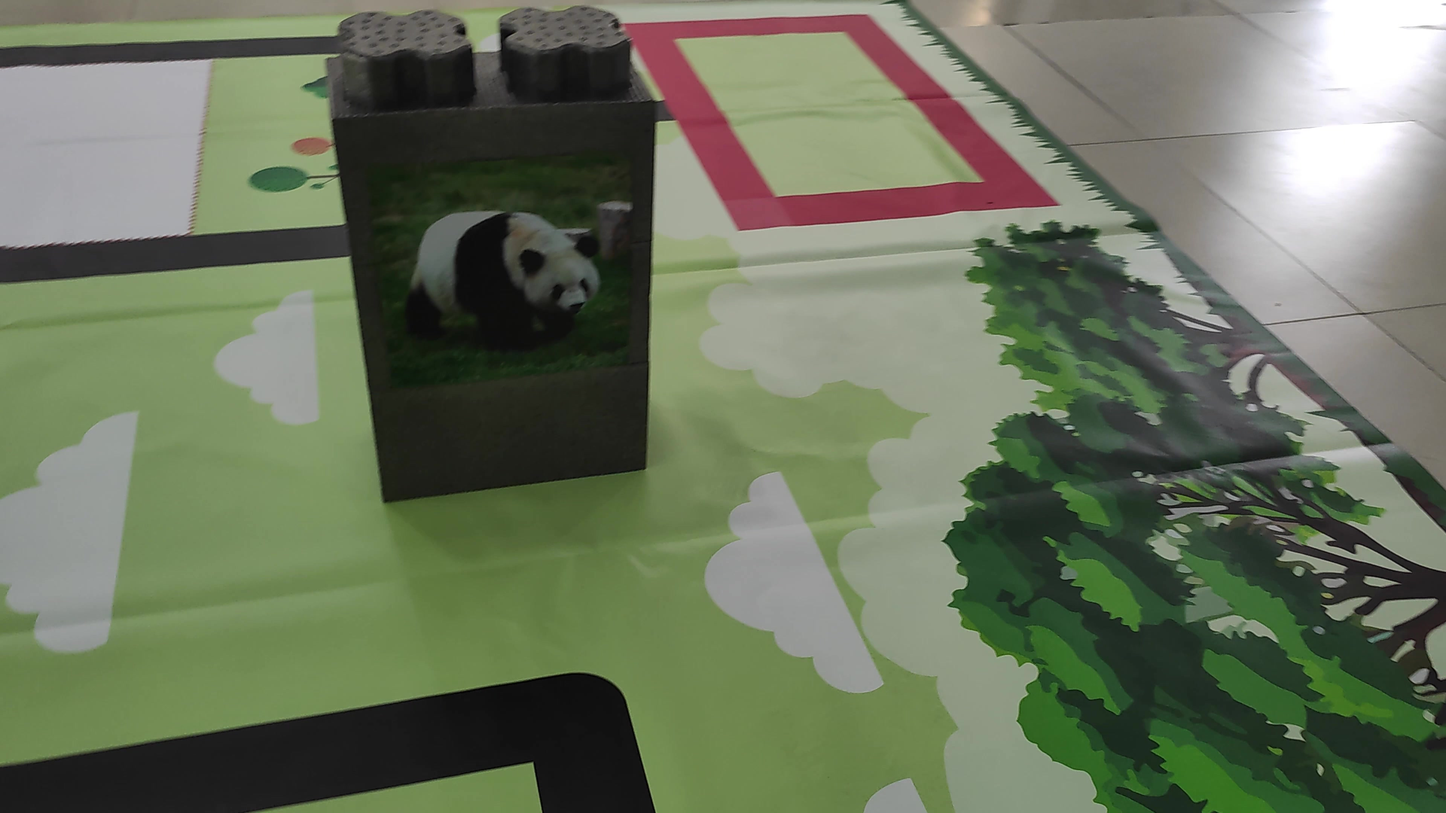panda: (394, 185, 618, 365)
